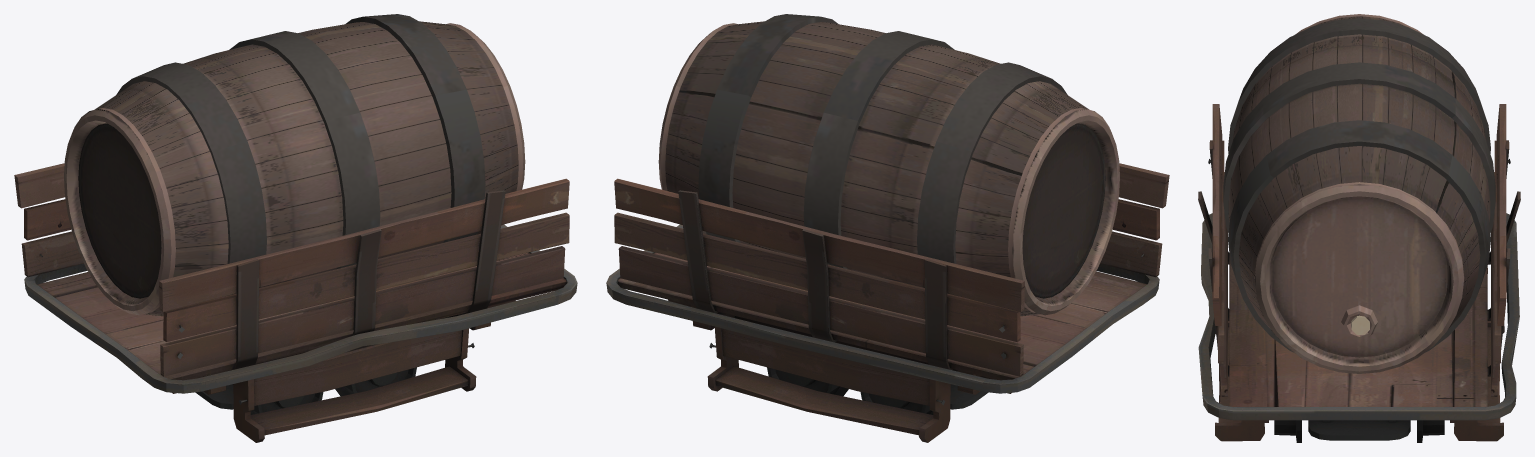
Rendered from wwpl_bomb_cart.glb.
3 renders of one model, left to right at view 1: azimuth 30°, elevation 25°; view 2: azimuth 150°, elevation 25°; view 3: azimuth 270°, elevation 25°, orthographic.
Parts seen in each view (by area): view 1: cart_base.001, barrel.001, straps.001; view 2: cart_base.001, barrel.001, straps.001; view 3: barrel.001, cart_base.001, straps.001.
Boxes of the visible parts, x1,y1,x2,y2 form: cart_base.001: [14, 163, 577, 442]; barrel.001: [64, 21, 525, 316]; straps.001: [116, 14, 485, 294]; cart_base.001: [606, 163, 1169, 442]; barrel.001: [658, 21, 1119, 316]; straps.001: [698, 14, 1067, 294]; barrel.001: [1228, 14, 1490, 373]; cart_base.001: [1198, 104, 1520, 442]; straps.001: [1223, 18, 1495, 352].
Size of the model in its own units: 0.9253 by 0.7281 by 0.6167.
Materials: 2 (2 with a texture image).
